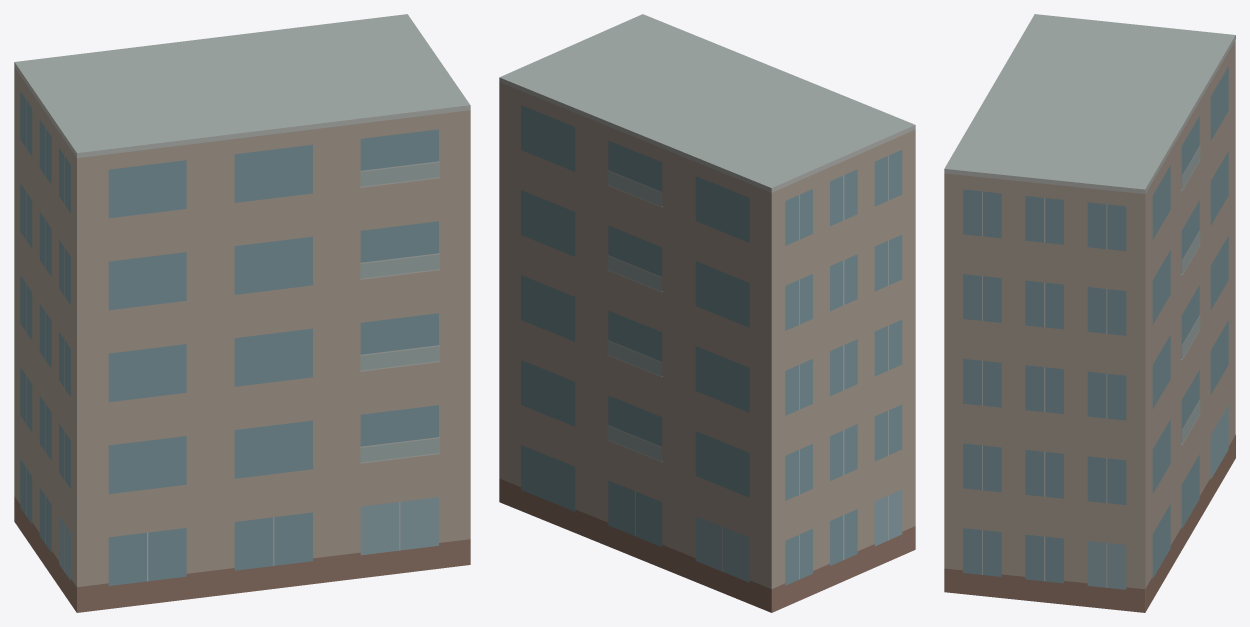
File: survey-upis-32924650.glb
3 renders of one model, left to right at view 1: azimuth 30°, elevation 25°; view 2: azimuth 150°, elevation 25°; view 3: azimuth 270°, elevation 25°, orthographic. The views are drawn at different scales.
Parts seen in each view (by area): view 1: survey-upis-32924650.tmp; view 2: survey-upis-32924650.tmp; view 3: survey-upis-32924650.tmp.
Boxes of the visible parts, box(x1,y1,x2,y2) form: survey-upis-32924650.tmp: box(14, 14, 470, 612); survey-upis-32924650.tmp: box(499, 14, 915, 612); survey-upis-32924650.tmp: box(944, 14, 1235, 612).
Size of the model in its own units: 19.94 by 22.41 by 14.
